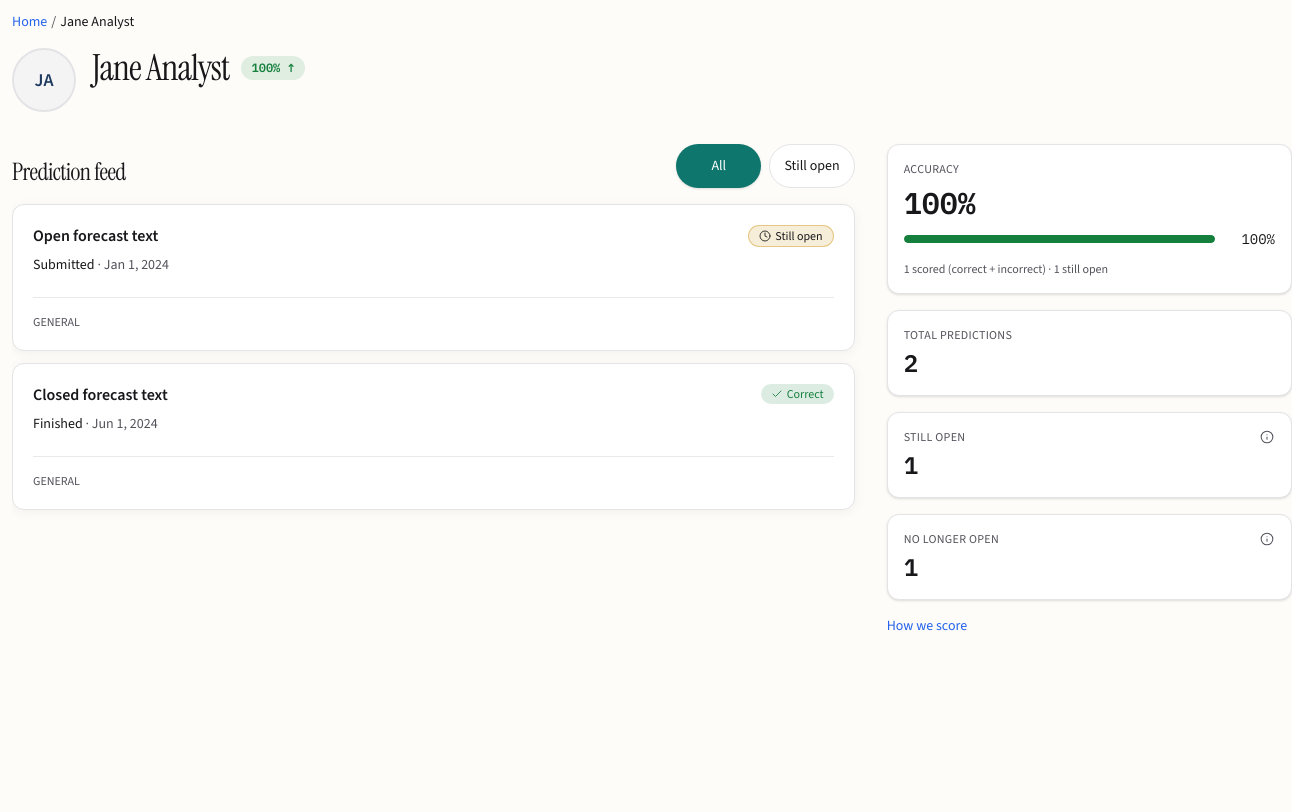
Test: SourceDetailView › given still open filter, should show filtered feed and unchanged sidebar totals
The width and height of the screenshot is (1292, 812).
Click the radio button labelled "Still open". click: (812, 166)
box: [769,144,855,188]
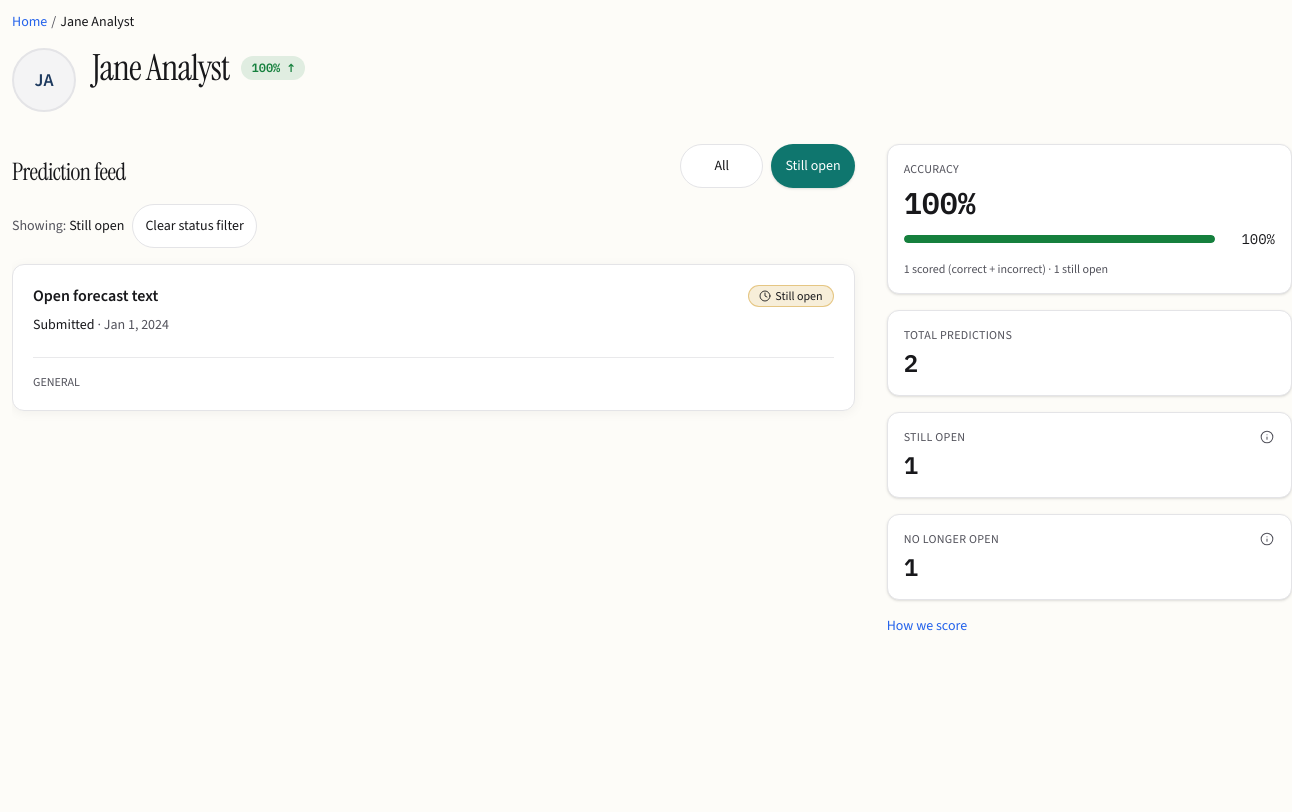
Expected: the link "Open forecast text" is shown, [33,285,158,306]
Expected: the message shows "Showing: Still open", [12,204,257,248]
Expected: the link "Closed forecast text" is gone
